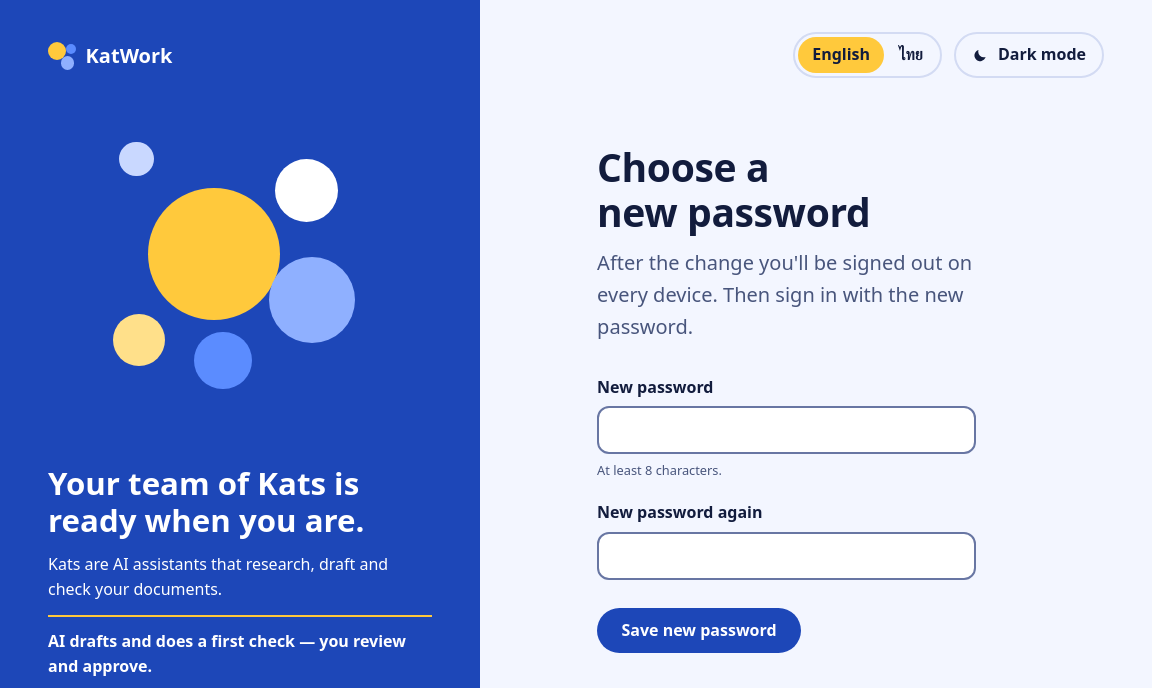
Scenario: reset_confirm_rejects_mismatched_passwords
In the password field labelled "New password": (787, 430) [597,406,976,454], type "a new long password"
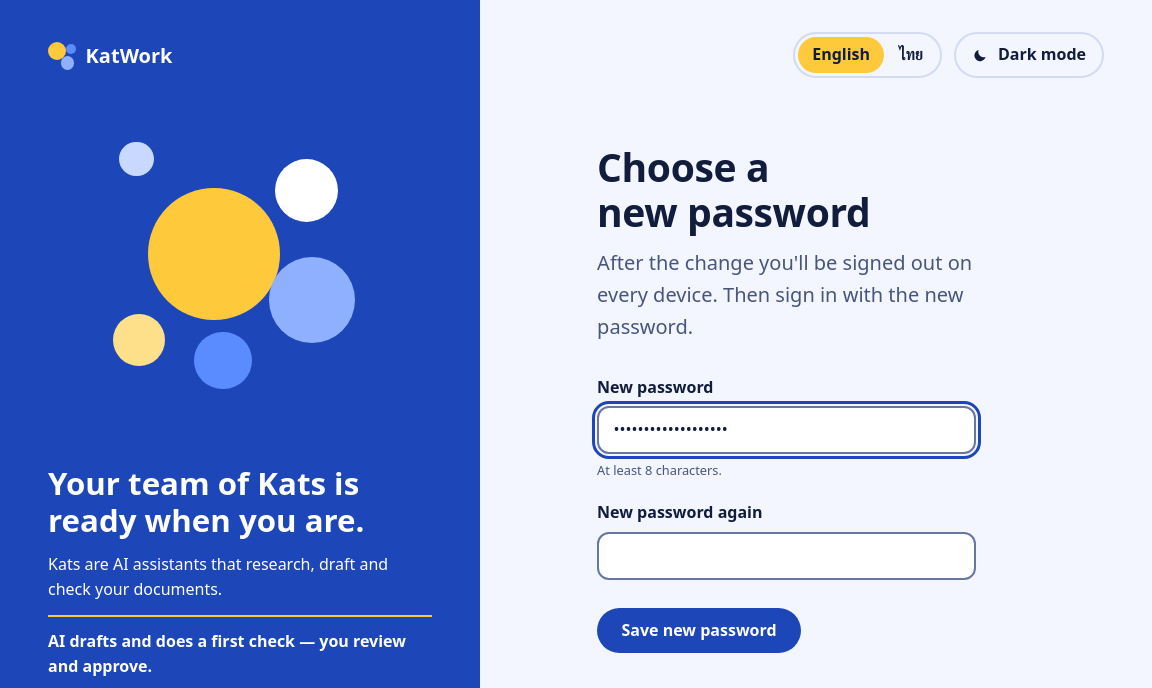
In the password field labelled "New password again": (787, 556) [597,532,976,580], type "a different password"
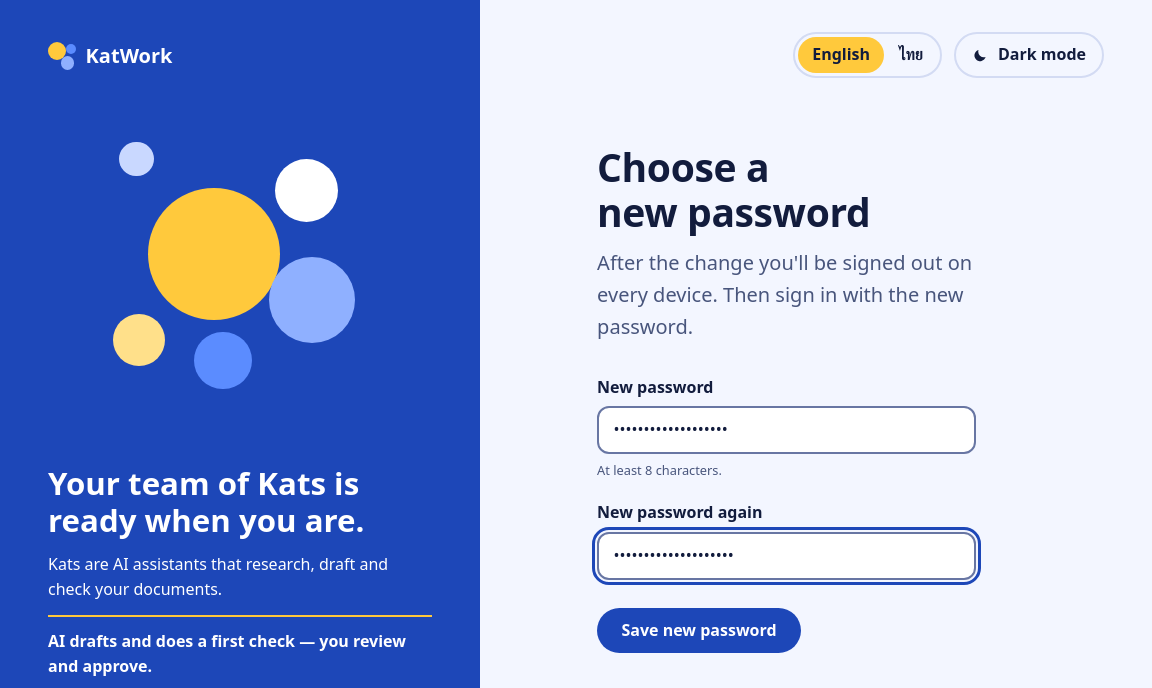
Click the button "Save new password": (699, 630) [597,608,801,653]
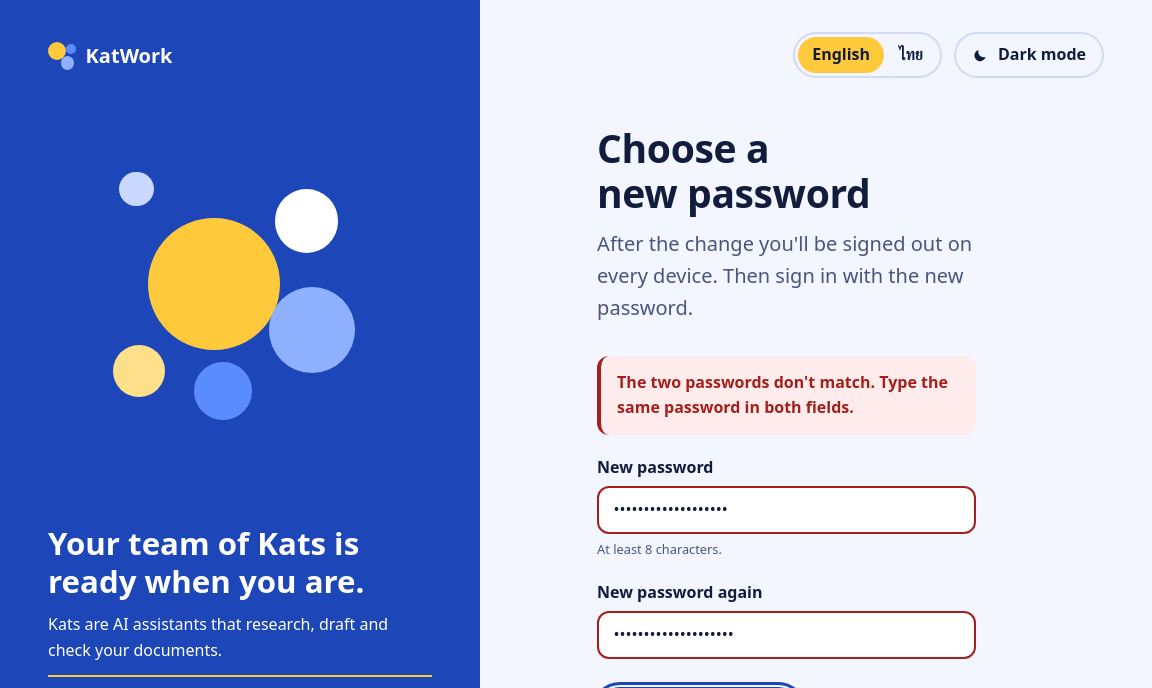
Expected: the message reads "The two passwords don't match. Type the same password in both fields.", [617,371,948,418]
